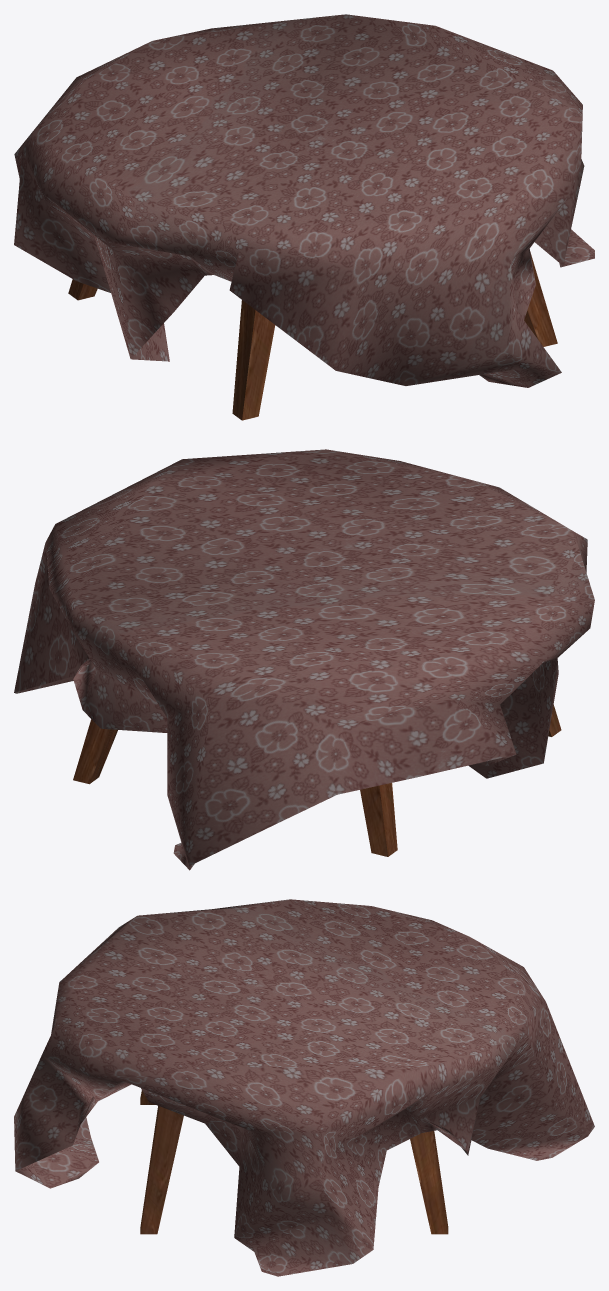
Rendered from gr_table.fbx.
3 renders of one model, top to bottom at view 1: azimuth 30°, elevation 25°; view 2: azimuth 150°, elevation 25°; view 3: azimuth 270°, elevation 25°, orthographic. The views are drawn at different scales.
Parts seen in each view (by area): view 1: tc, stick; view 2: tc, stick; view 3: tc, stick.
Part boxes in pixels (x1,y1,x2,y2): tc: (14,14,594,387); stick: (68,252,557,420); tc: (14,449,594,870); stick: (73,705,561,856); tc: (14,899,594,1276); stick: (140,1090,448,1234).
Size of the model in its own units: 154 by 57.99 by 168.
